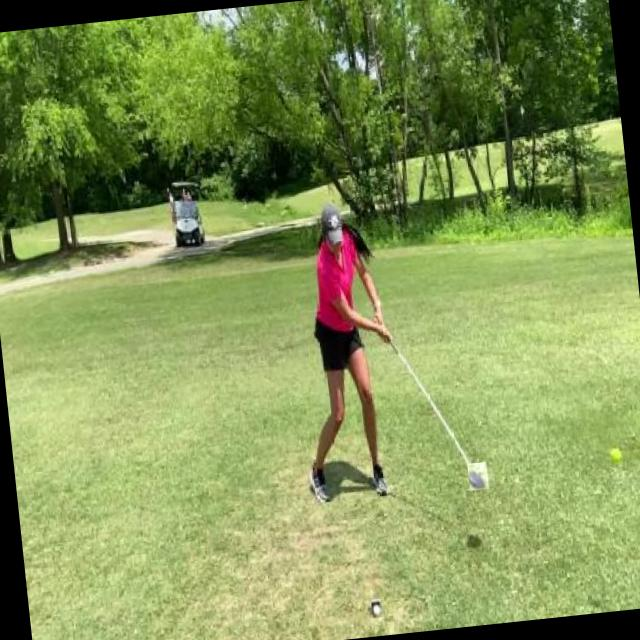club head: (467, 462, 490, 491)
